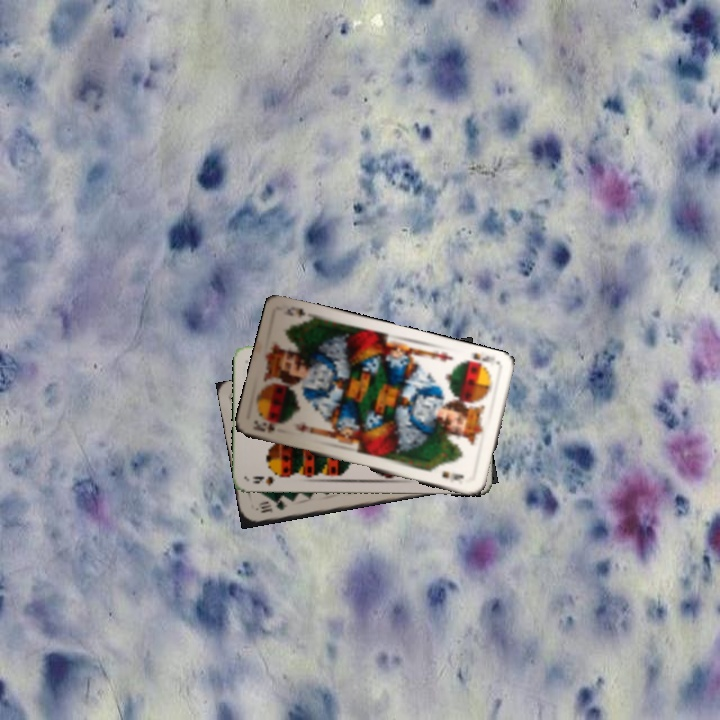G10: (256, 497, 290, 516)
S9: (248, 469, 287, 488)
SK: (460, 348, 502, 374), (249, 416, 277, 436)
